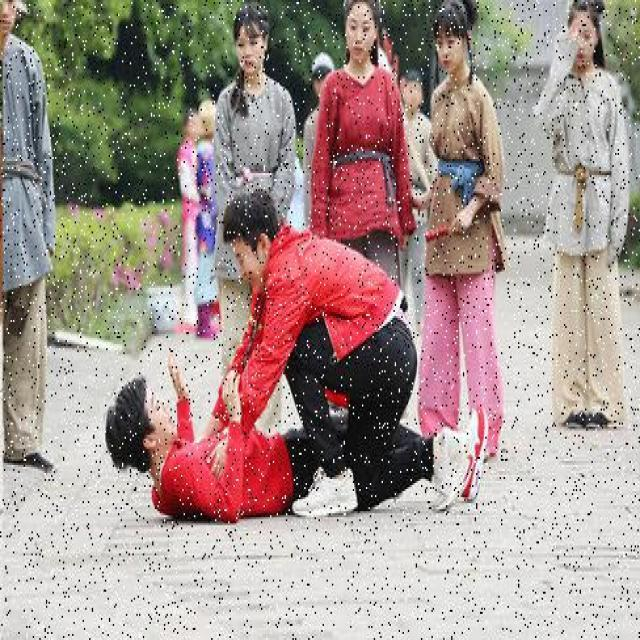fall: (103, 376, 490, 512)
